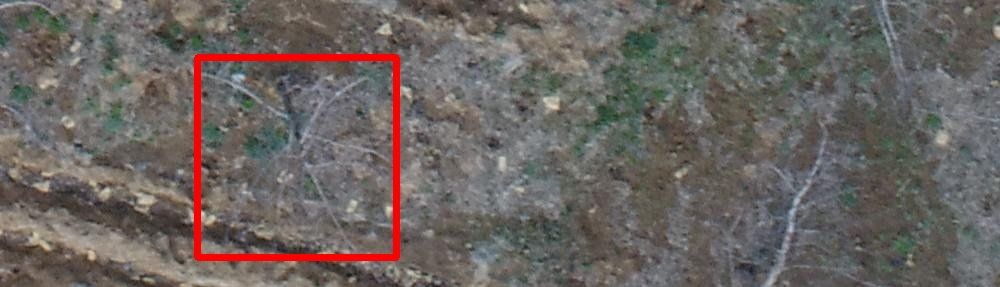apple: (197, 57, 396, 257)
